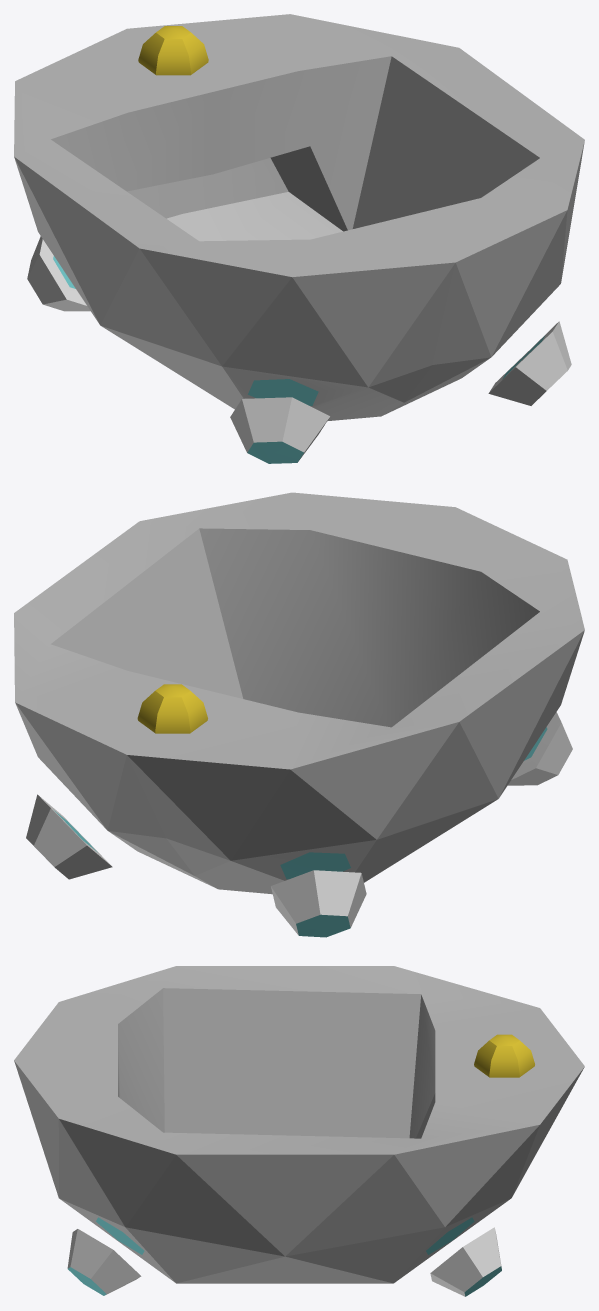
Rendered from pod-rig.glb.
3 renders of one model, top to bottom at view 1: azimuth 30°, elevation 25°; view 2: azimuth 150°, elevation 25°; view 3: azimuth 270°, elevation 25°, orthographic. The views are drawn at different scales.
Parts seen in each view (by area): view 1: Time Pod; view 2: Time Pod; view 3: Time Pod.
Part boxes in pixels (x1=…): Time Pod: x1=14, y1=14, x2=584, y2=463; Time Pod: x1=14, y1=492, x2=584, y2=937; Time Pod: x1=14, y1=966, x2=584, y2=1296.
Size of the model in its own units: 1.22 by 0.7152 by 1.56.
